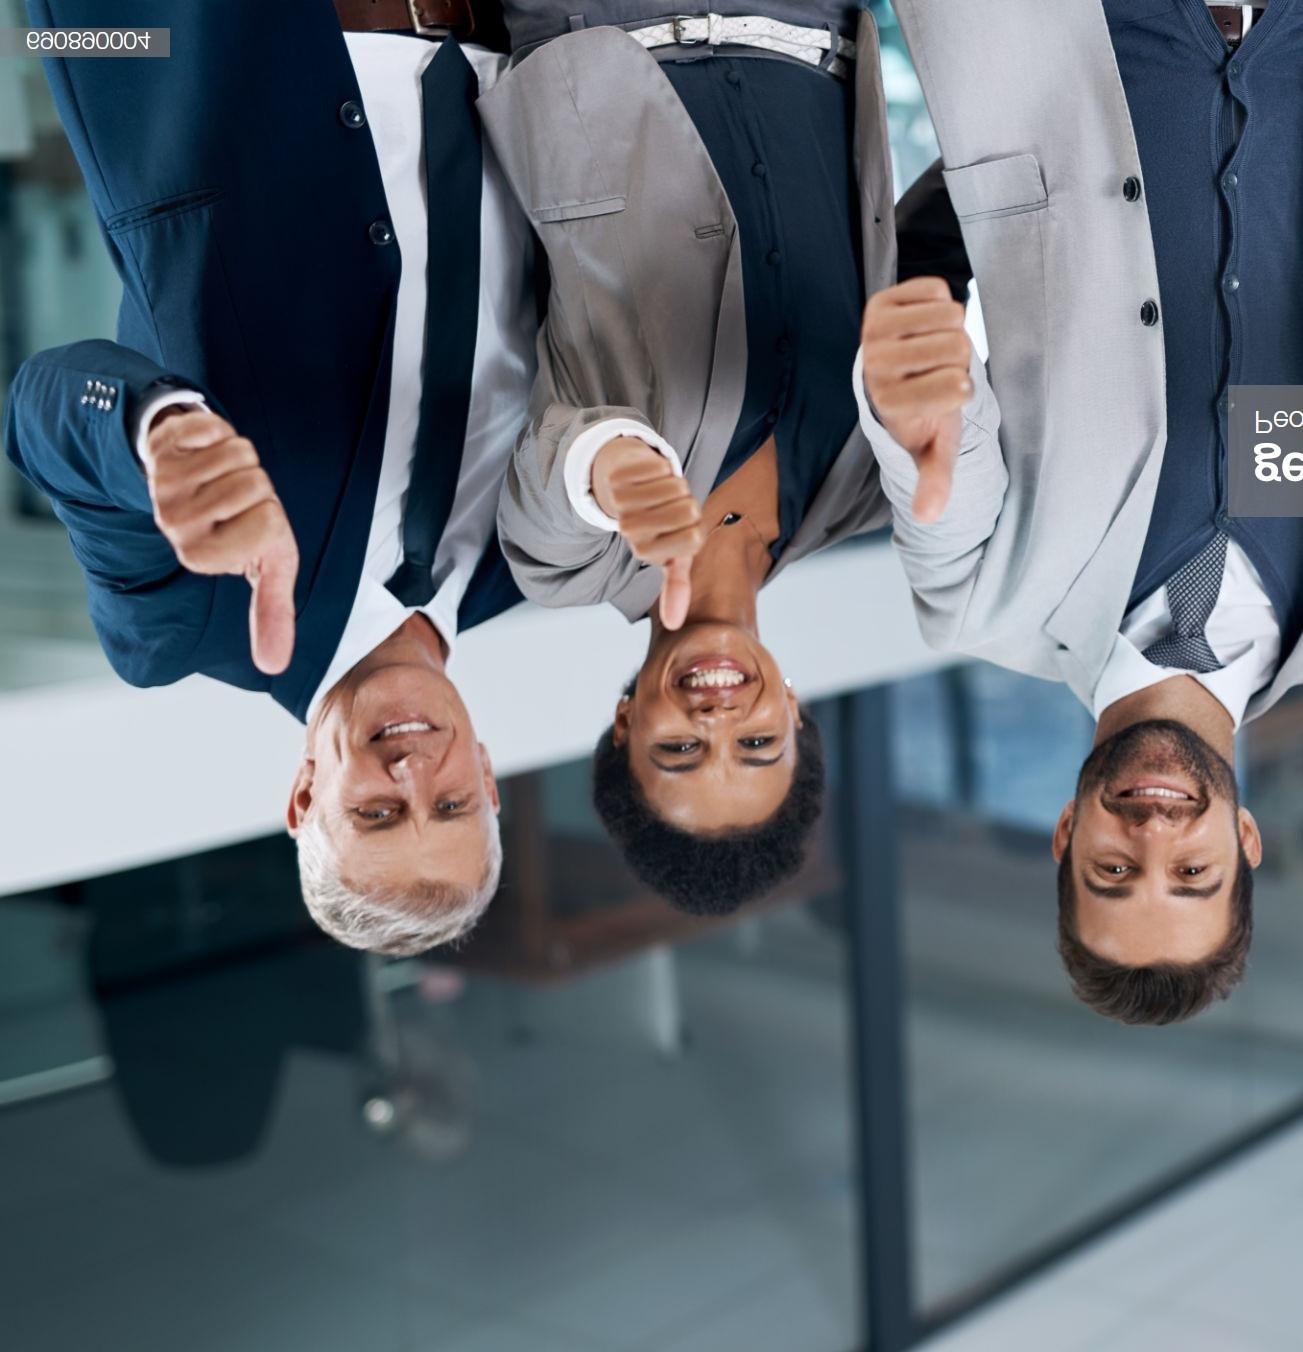thumbsdown: (144, 410, 299, 676), (862, 276, 972, 521), (607, 458, 703, 630)
